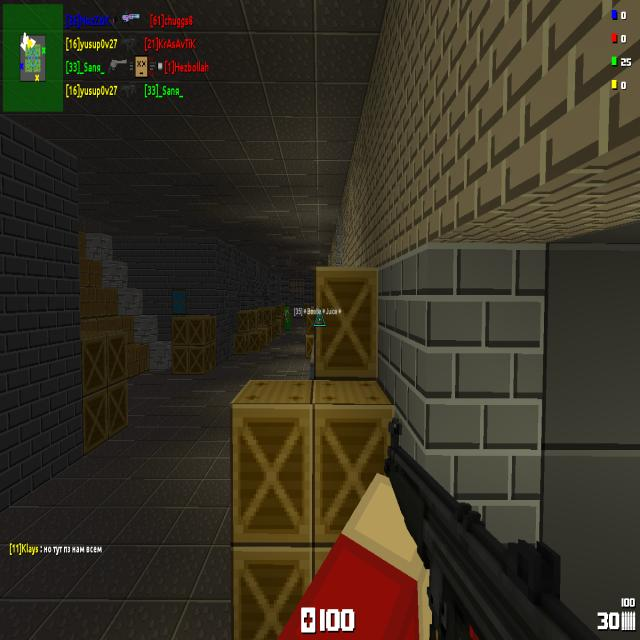enemy: (284, 306, 292, 331)
